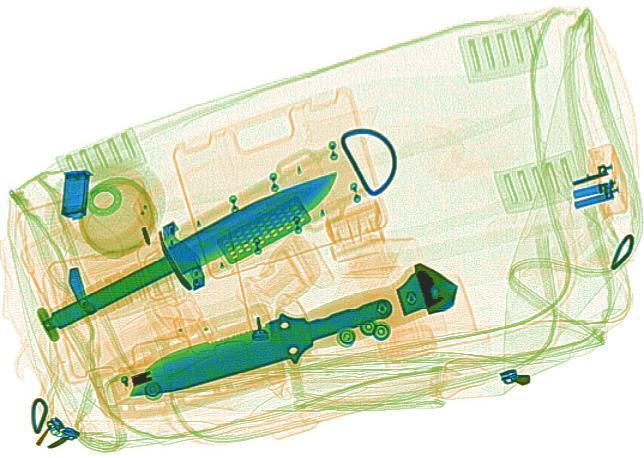Knife: (6, 158, 377, 351), (106, 278, 411, 417)
